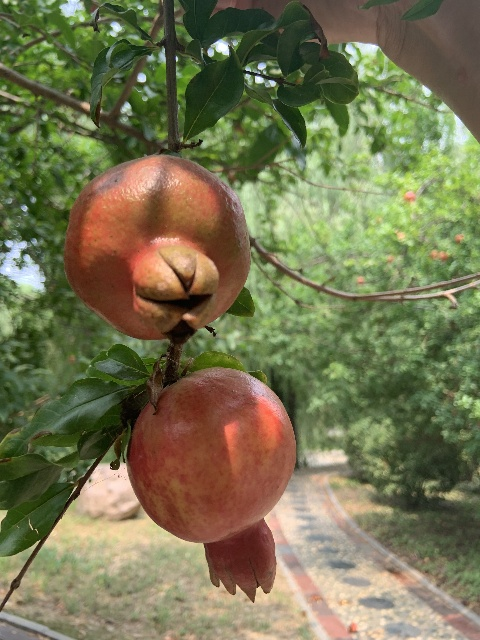ripe: (126, 366, 296, 600), (63, 154, 251, 341)
